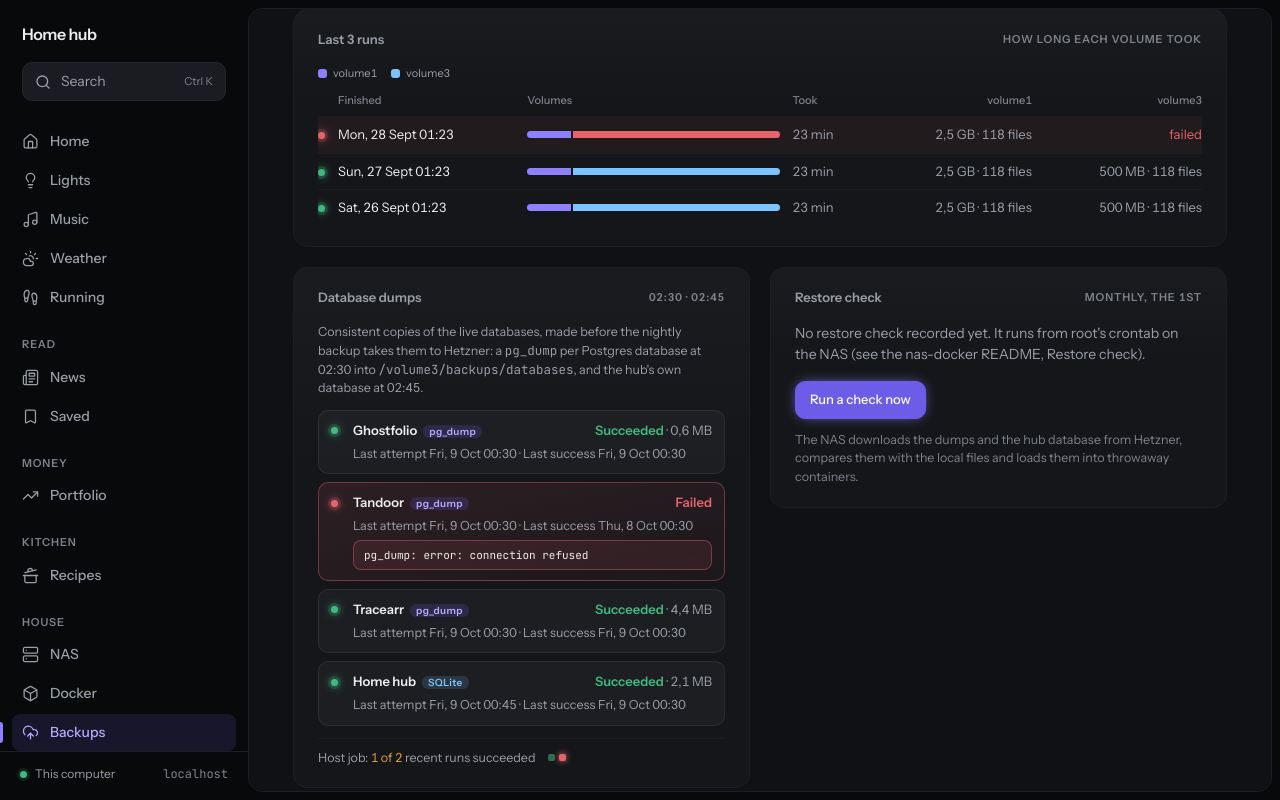
Scenario: BackupsPage › asks the NAS for a restore check now and says when it will start
This screenshot has width=1280, height=800.
(page scrolled)
Click the button "Run a check now" at (860, 400), box [795,381,926,418]
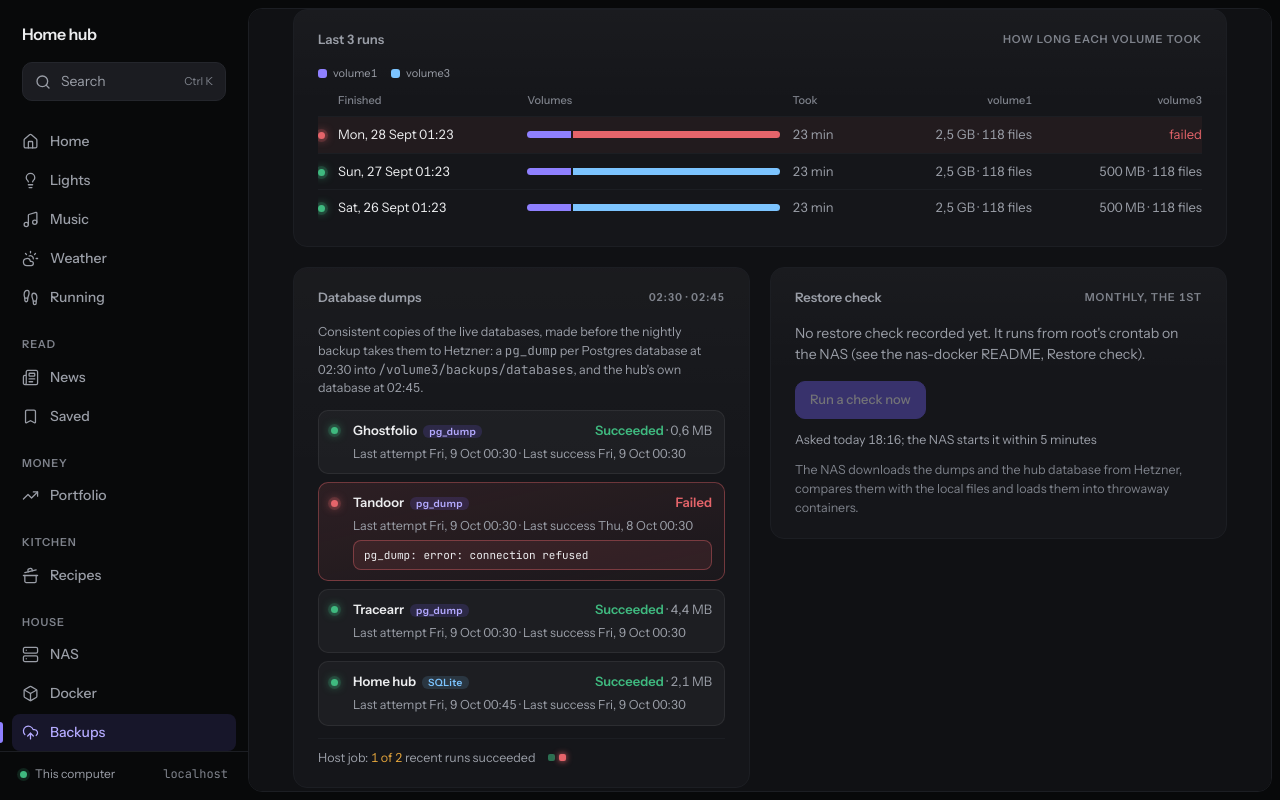
Result: the message shows "the NAS starts it within 5 minutes" at [901,432,1097,446]
Result: the button "Run a check now" is disabled at [795,381,926,418]
